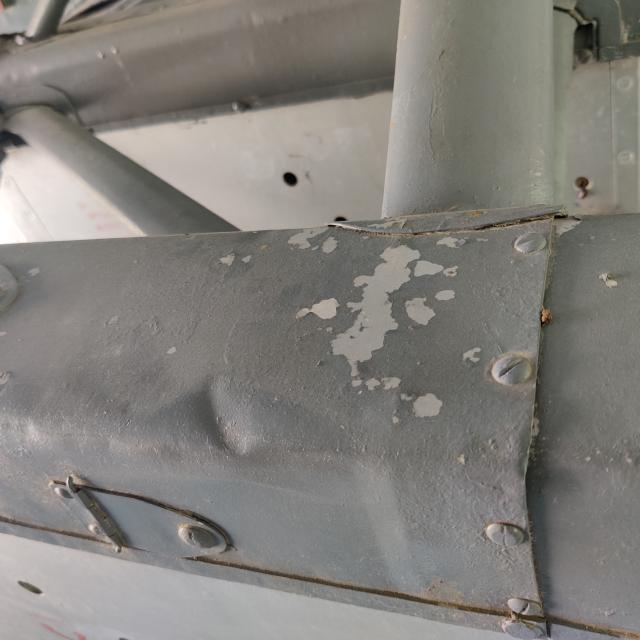dent: (177, 371, 265, 472)
paint-off: (275, 224, 493, 429)
